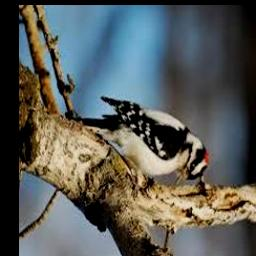Woodpecker: (73, 96, 208, 188)
